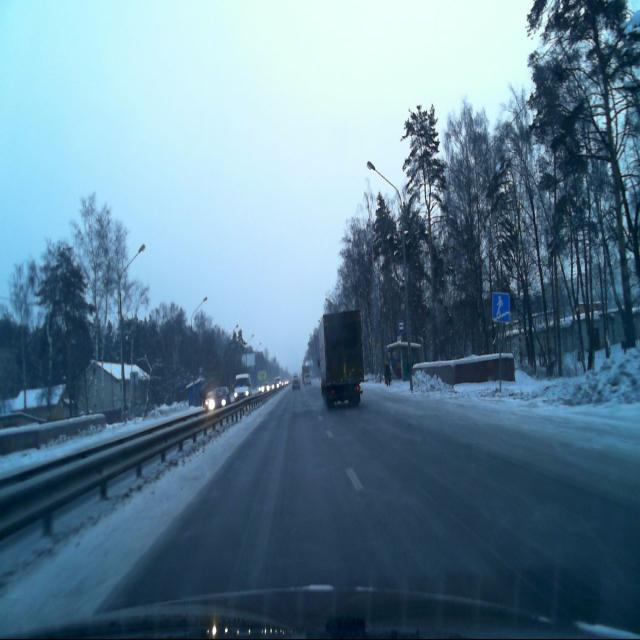road sign: (492, 291, 510, 325)
